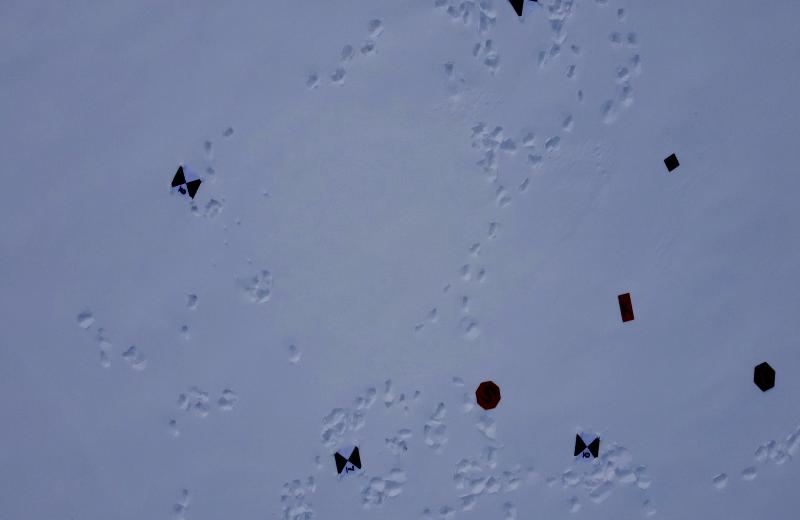Hexagon: (751, 360, 778, 394)
Octagon: (473, 376, 501, 412)
Rectangle: (617, 291, 637, 326)
Square: (662, 152, 681, 174)
